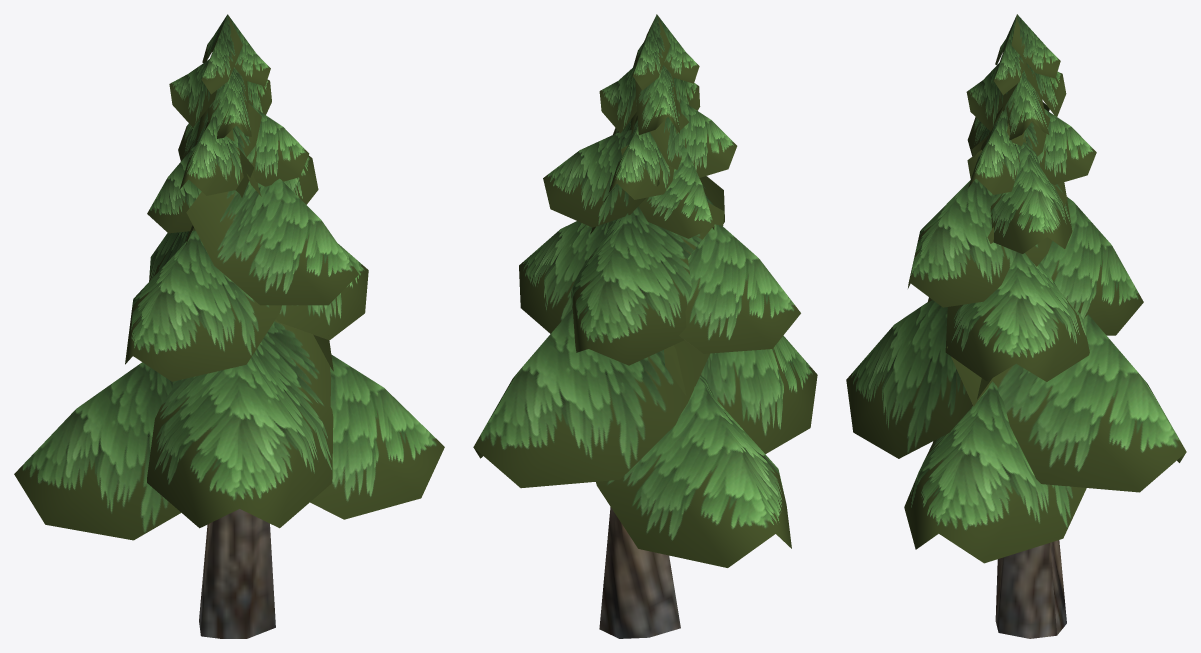
Rendered from shu_3.FBX.
3 views of the same model, side by side, from view 1: azimuth 30°, elevation 25°; view 2: azimuth 150°, elevation 25°; view 3: azimuth 270°, elevation 25° (orthographic). The views are drawn at different scales.
Visible parts, largest first — view 1: polySurface478; view 2: polySurface478; view 3: polySurface478.
Boxes of the visible parts, box(x1,y1,x2,y2) form: polySurface478: box(14, 14, 444, 638); polySurface478: box(473, 14, 817, 638); polySurface478: box(846, 14, 1186, 638).
Size of the model in its own units: 0.000659 by 0.00113 by 0.000579.
